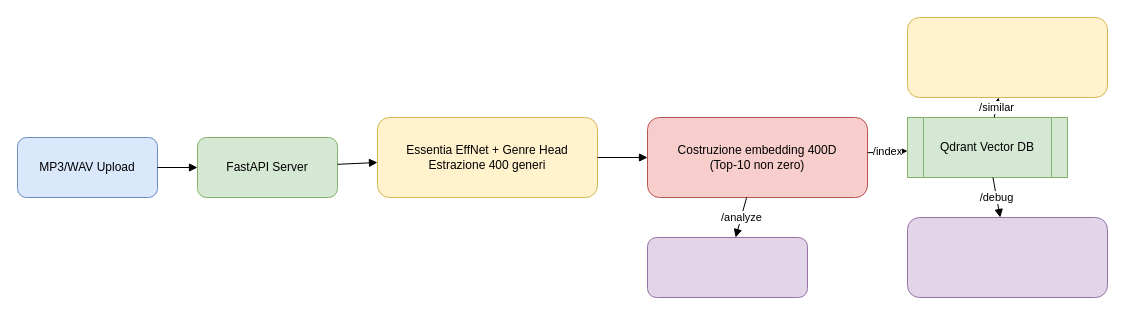
The diagram is 1125 pixels wide and 315 high, and some of its shapes have lost their labels. Here are the shapes that lost their labels. From the top down, the centre of each, then its label:
the point at 1007,57: Similarity Search Cosine Distance
the point at 727,267: Restituzione JSON
the point at 1007,257: Ispezione Dati Salvati
